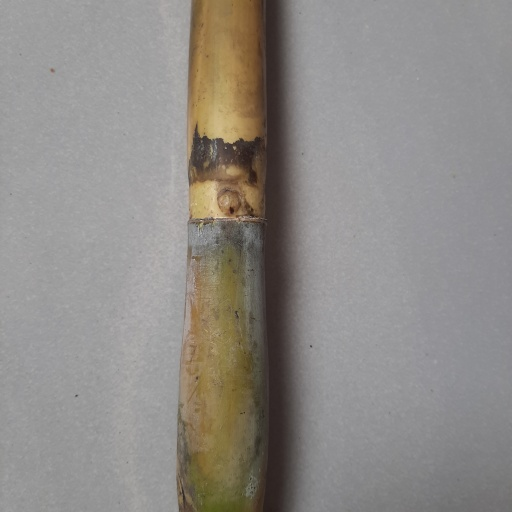Bud: (217, 190, 243, 217)
